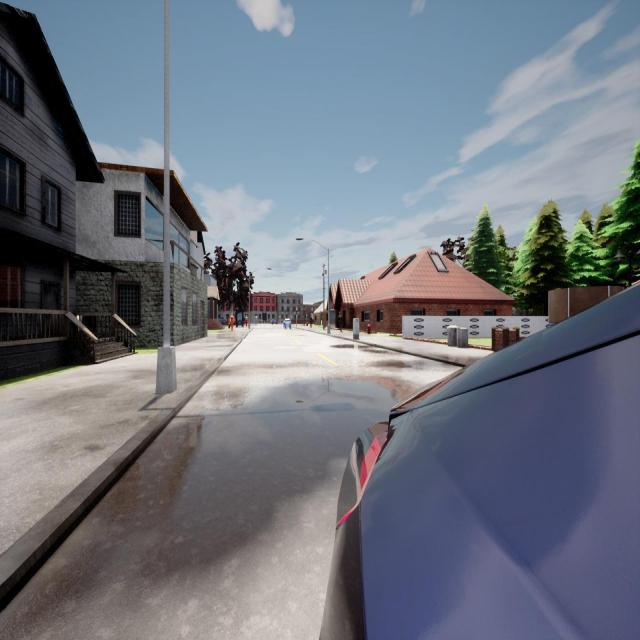Pedestrian: (337, 311, 343, 332), (228, 313, 235, 330), (309, 316, 313, 328), (245, 314, 248, 326)
Vehicle: (320, 288, 640, 638), (283, 318, 291, 328), (218, 317, 225, 324), (272, 318, 278, 324)
traffic_light: (296, 309, 298, 315)
